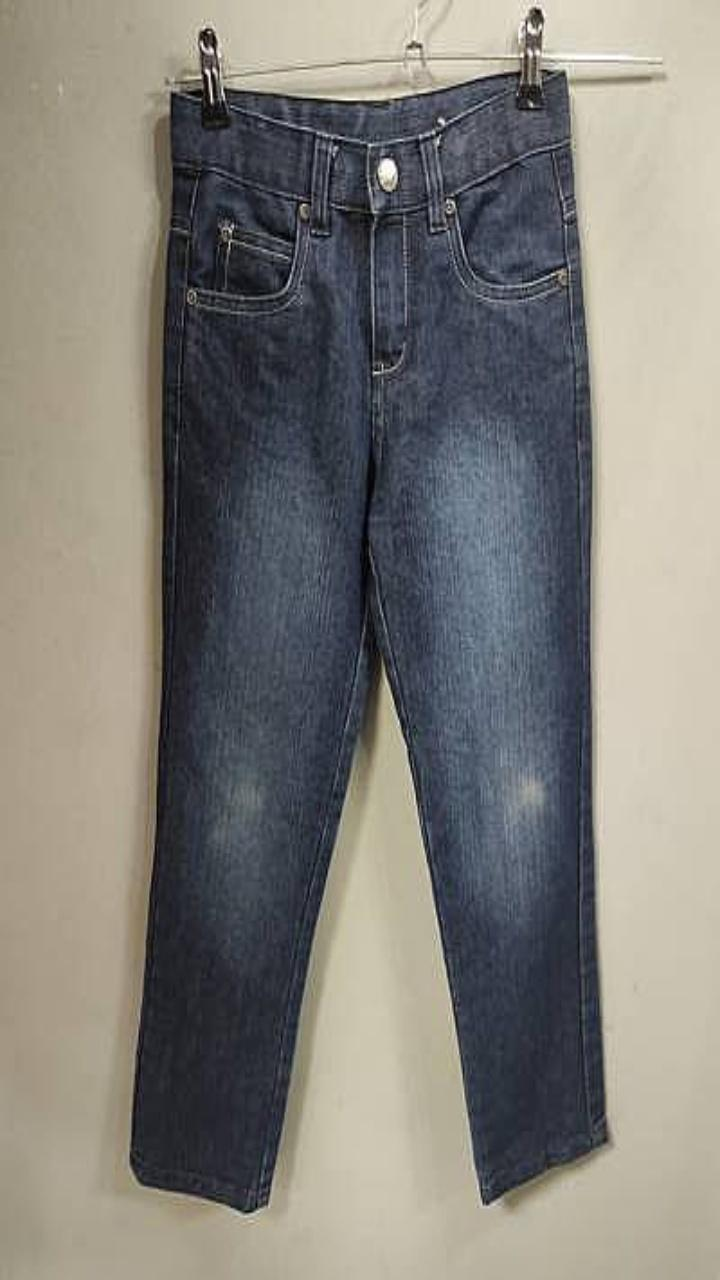Jeans: (130, 71, 607, 1211)
